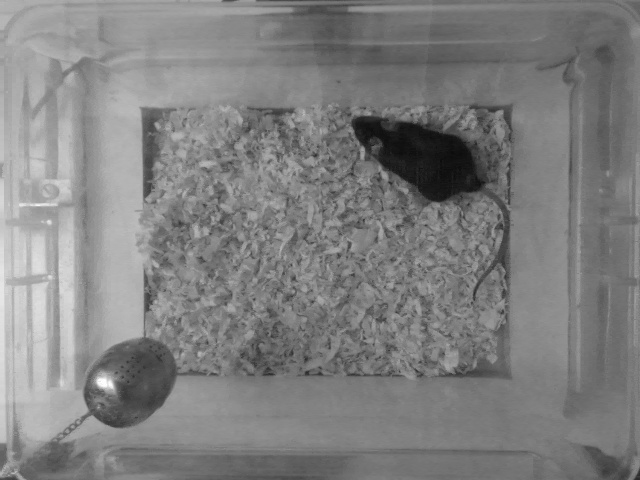mice: (348, 112, 510, 297)
